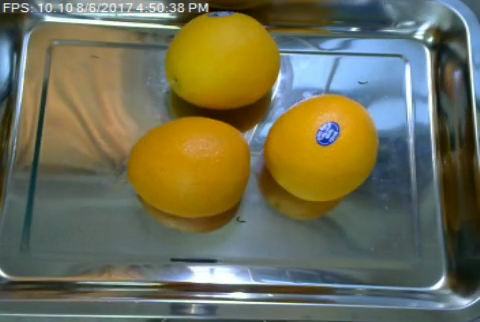Orange: (127, 116, 250, 217), (265, 94, 378, 203), (166, 11, 280, 108)
